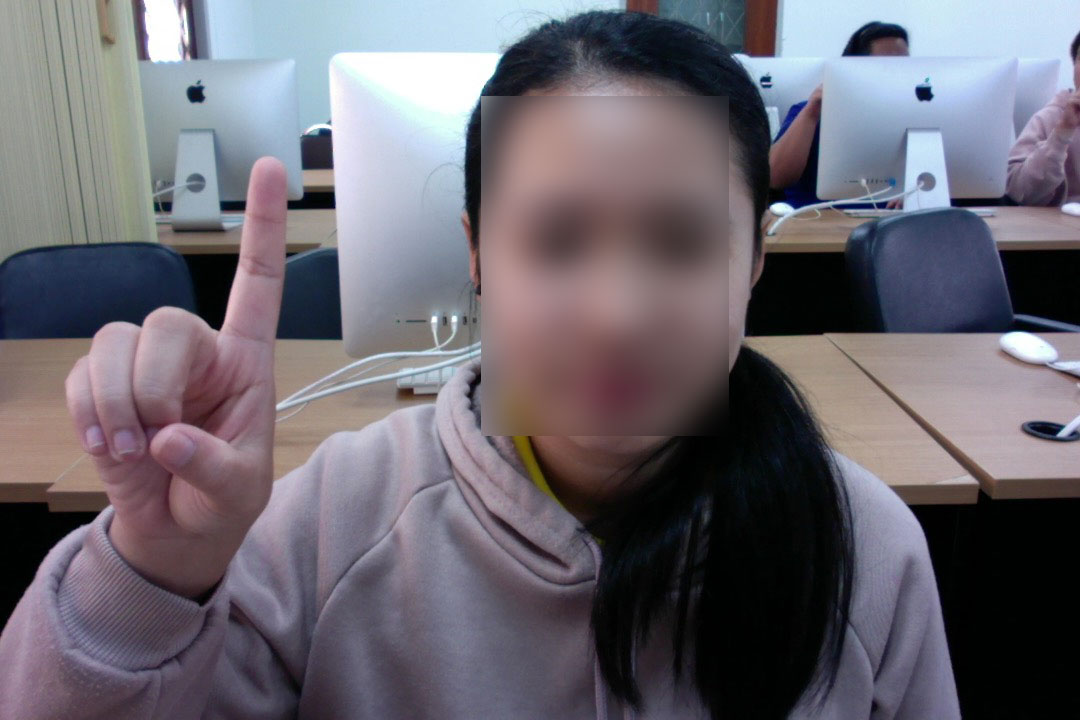dor: (63, 146, 296, 546)
